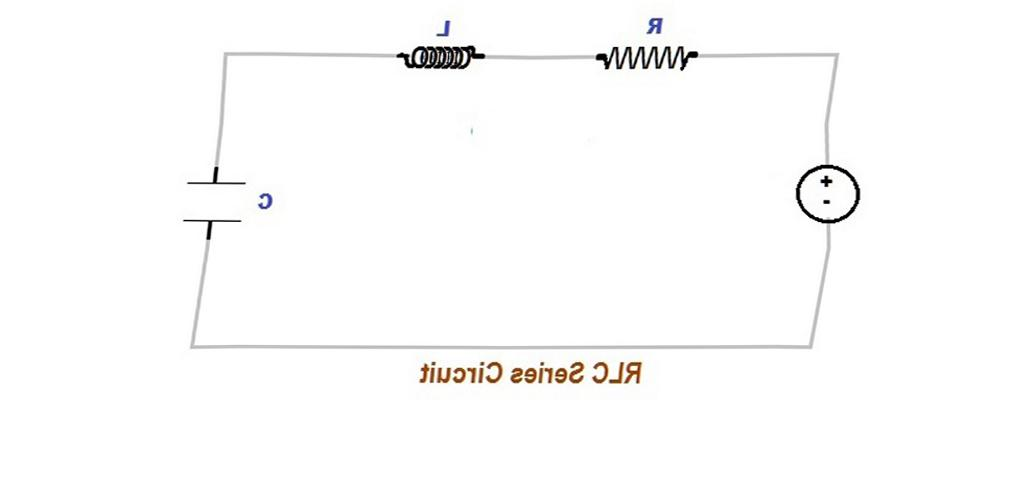Battery: (767, 153, 894, 243)
